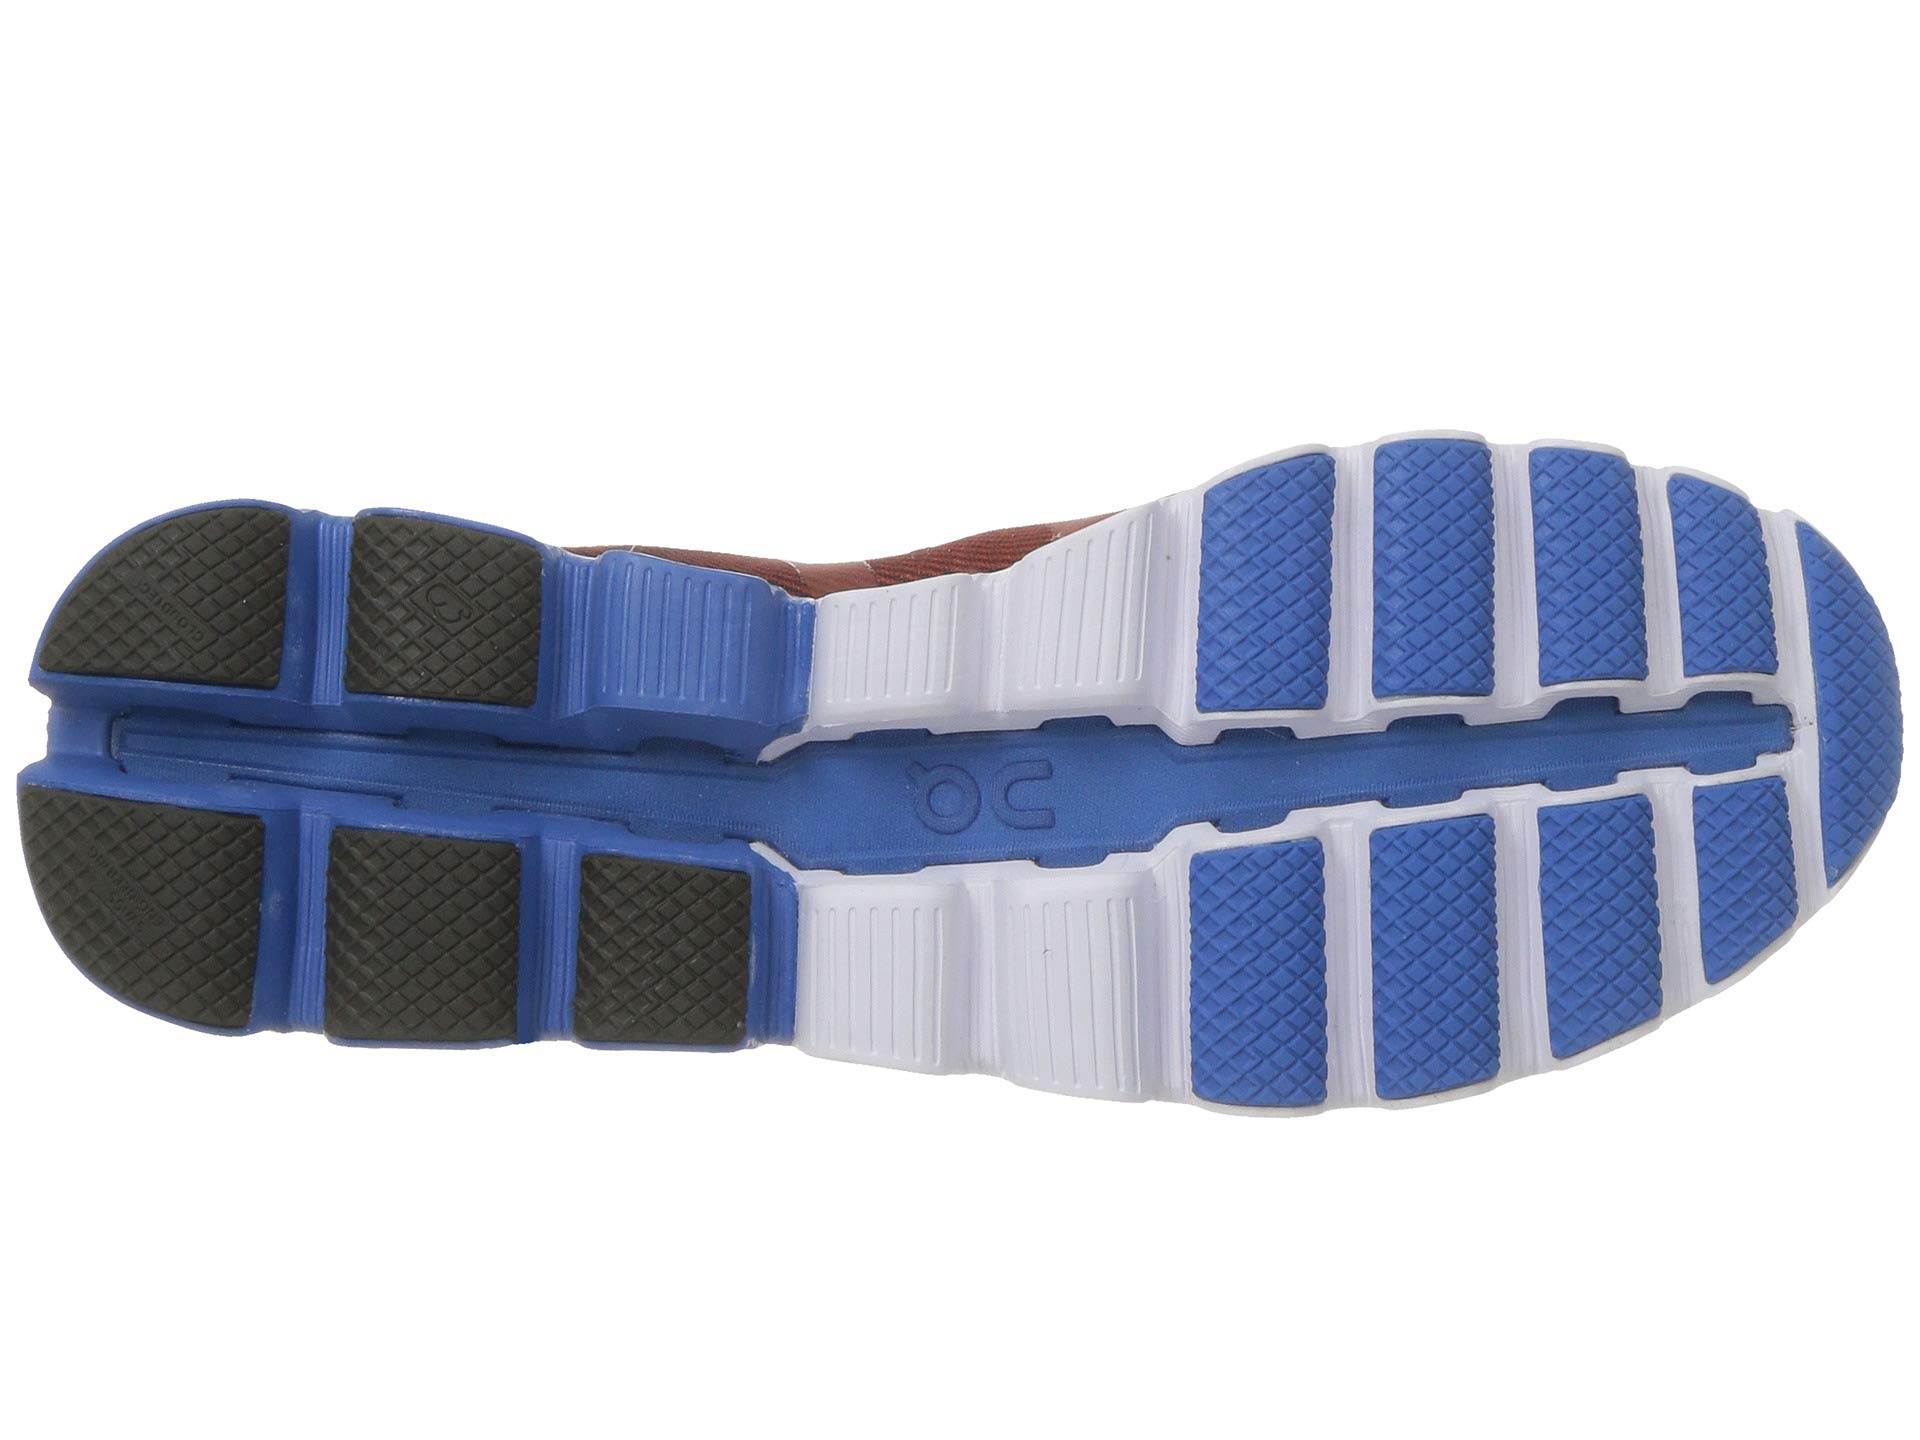circle: (898, 749, 1066, 836)
line: (788, 874, 1169, 1116), (578, 557, 762, 731)
quad: (23, 768, 753, 1059), (1188, 442, 1781, 731), (1206, 464, 1333, 709)
text: (898, 749, 1066, 836)
